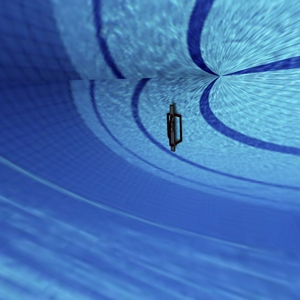submarine: (151, 94, 193, 168)
